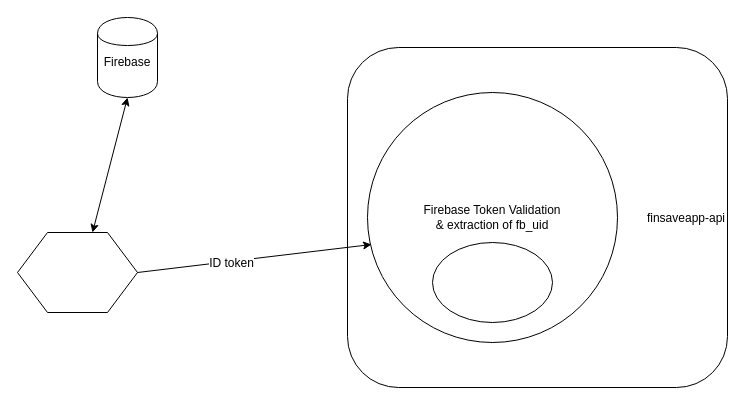
This 745x405 diagram has some shape labels left out. The shapes that lost their labels are listed below. From the top down, each one's centre as x and y in pixels, then its label:
the point at 77,272: reactJS ID token
the point at 492,282: PHP API fb_uid
